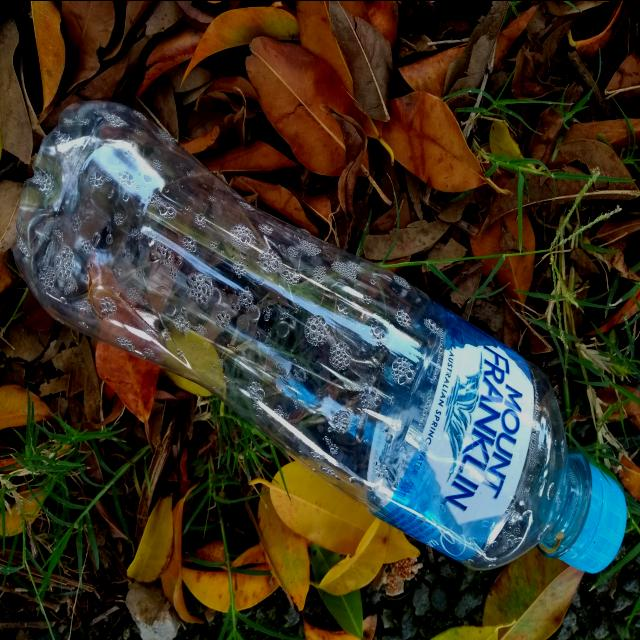Clear plastic bottle: (12, 99, 627, 573)
Plastic bottle cap: (562, 468, 628, 573)
